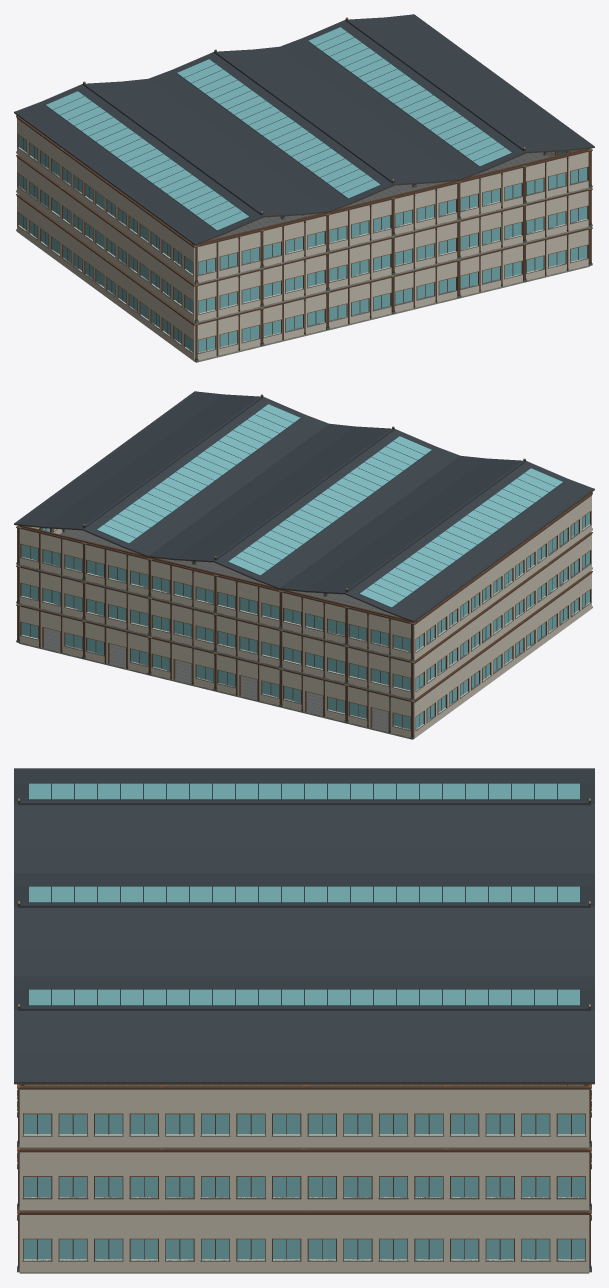
File: visual-far.glb
The picture shows the model from 3 angles, top to bottom: view 1: azimuth 30°, elevation 25°; view 2: azimuth 150°, elevation 25°; view 3: azimuth 270°, elevation 25°; orthographic projection. The views are drawn at different scales.
Parts seen in each view (by area): view 1: 参数墙 · 独立窗玻璃 (×30), 连续屋面 · gable (×3), 工业屋面连续采光带 (×3); view 2: 连续屋面 · gable (×3), 参数墙 · 独立窗玻璃 (×24), 工业屋面连续采光带 (×3), 参数墙 · 通行门洞 (×6), 石铺面与混凝土楼板 (×6); view 3: 连续屋面 · gable (×3), 参数墙 · 独立窗玻璃 (×12), 工业屋面连续采光带 (×3).
Part boxes in pixels (<box>): 参数墙 · 独立窗玻璃 (×30): <box>16,116,589,361</box>; 连续屋面 · gable (×3): <box>14,14,594,245</box>; 工业屋面连续采光带 (×3): <box>45,26,512,230</box>; 连续屋面 · gable (×3): <box>14,391,594,622</box>; 参数墙 · 独立窗玻璃 (×24): <box>19,493,592,738</box>; 工业屋面连续采光带 (×3): <box>96,403,563,607</box>; 参数墙 · 通行门洞 (×6): <box>19,605,412,737</box>; 石铺面与混凝土楼板 (×6): <box>19,628,412,739</box>; 连续屋面 · gable (×3): <box>14,768,594,1085</box>; 参数墙 · 独立窗玻璃 (×12): <box>19,1085,589,1272</box>; 工业屋面连续采光带 (×3): <box>27,783,581,1005</box>.
Bounding box in the file's own units: 51.6 × 16.68 × 40.4.
Materials: 18 (18 with a texture image).
